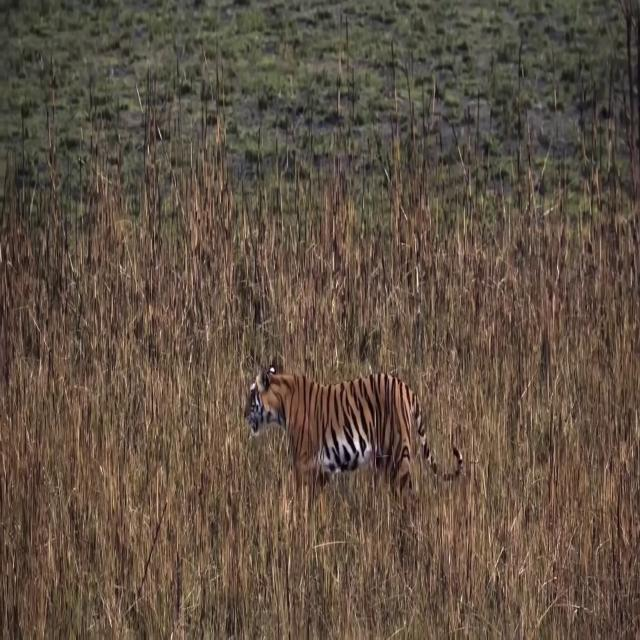tiger: (244, 364, 462, 507)
